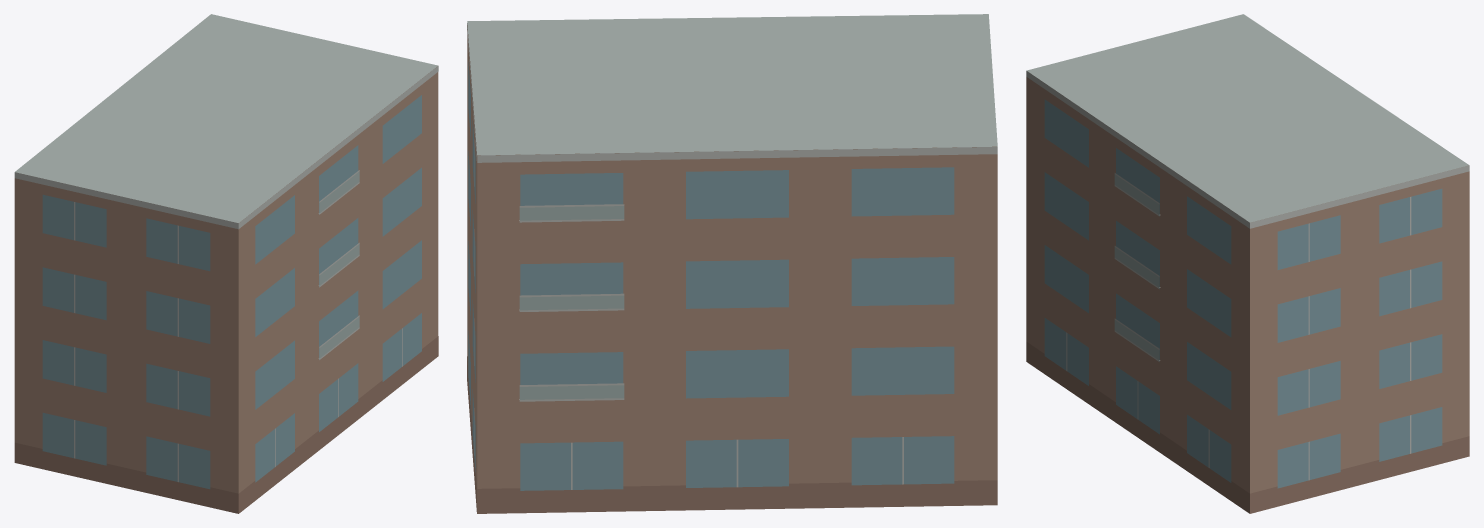
Rendered from survey-upis-32933719.glb.
The picture shows the model from 3 angles, left to right: view 1: azimuth 30°, elevation 25°; view 2: azimuth 150°, elevation 25°; view 3: azimuth 270°, elevation 25°; orthographic projection. The views are drawn at different scales.
Parts seen in each view (by area): view 1: survey-upis-32933719.tmp; view 2: survey-upis-32933719.tmp; view 3: survey-upis-32933719.tmp.
Boxes of the visible parts, box(x1,y1,x2,y2) form: survey-upis-32933719.tmp: box(14, 14, 438, 513); survey-upis-32933719.tmp: box(467, 14, 997, 513); survey-upis-32933719.tmp: box(1026, 14, 1469, 513).
Bounding box in the file's own units: 18 × 11.7 × 16.15.
